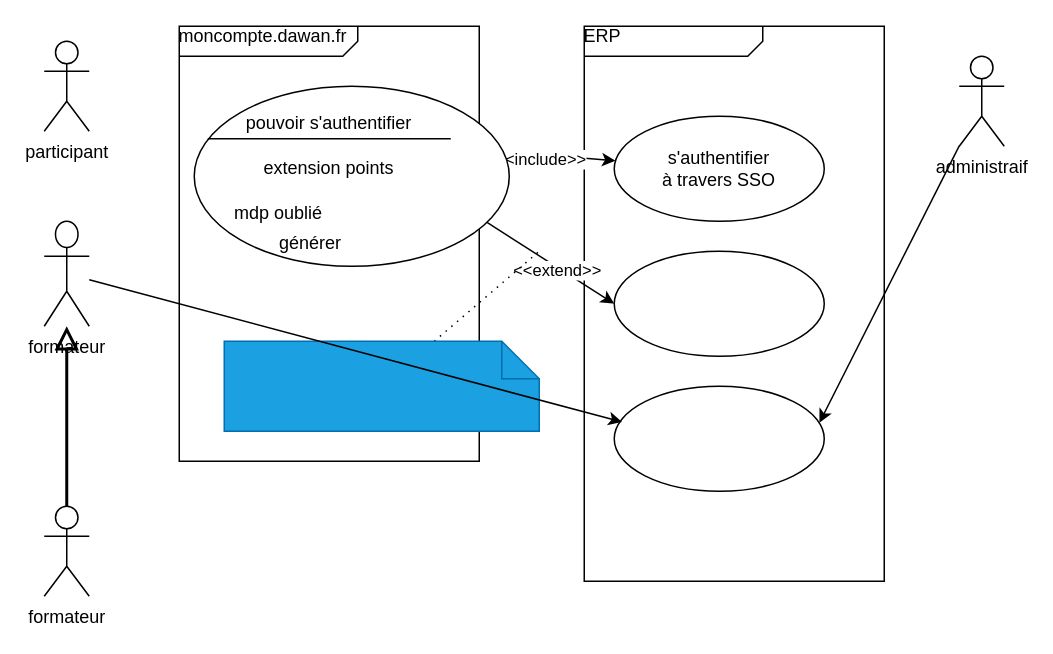
This 1053x654 diagram has some shape labels left out. Here are the shapes that lost their labels. From the top down, the centre of each, then its label:
(718,303): reprendre mdp oublié
(381,385): sous fonctionnalité non consitutive du use case courant
(718,438): notifier absences
